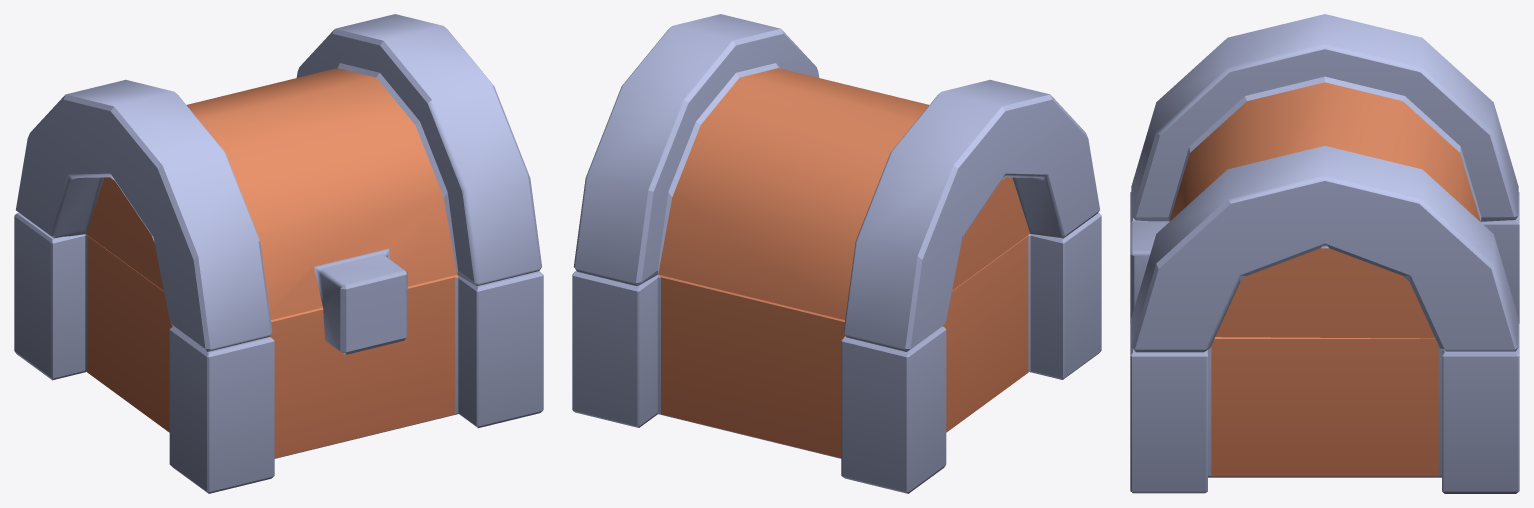
File: kenney-pirate__chest.glb
The picture shows the model from 3 angles, left to right: view 1: azimuth 30°, elevation 25°; view 2: azimuth 150°, elevation 25°; view 3: azimuth 270°, elevation 25°; orthographic projection.
Parts seen in each view (by area): view 1: lid, chest; view 2: lid, chest; view 3: lid, chest.
Part boxes in pixels (x1,y1,x2,y2): lid: [16, 14, 542, 354]; chest: [14, 213, 543, 493]; lid: [573, 14, 1099, 351]; chest: [572, 212, 1101, 493]; lid: [1130, 14, 1518, 352]; chest: [1130, 192, 1519, 493].
Bounding box in the file's own units: 1.27 × 1.15 × 1.28.
1 material, 1 textured.
